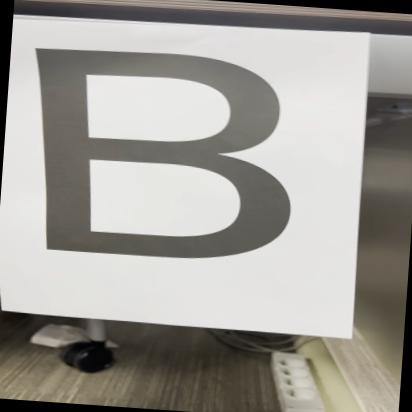seat: (0, 33, 338, 283)
